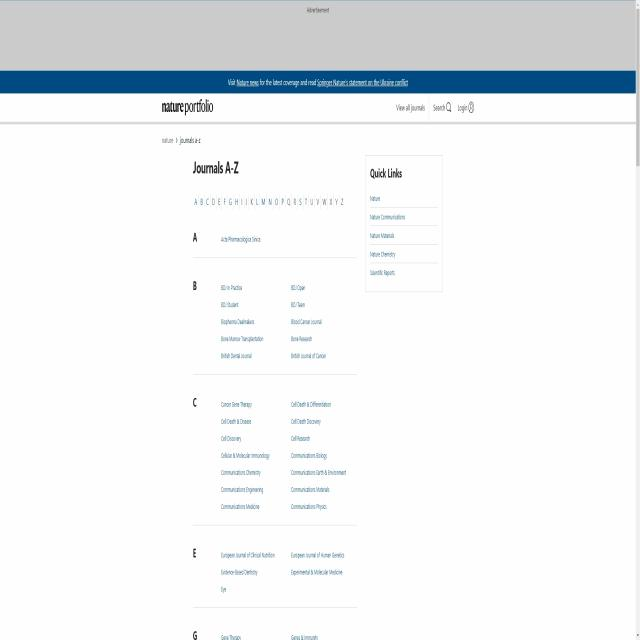menu-bar: (394, 95, 480, 122)
side-panel: (364, 152, 446, 297)
tab-bar: (192, 189, 346, 214)
